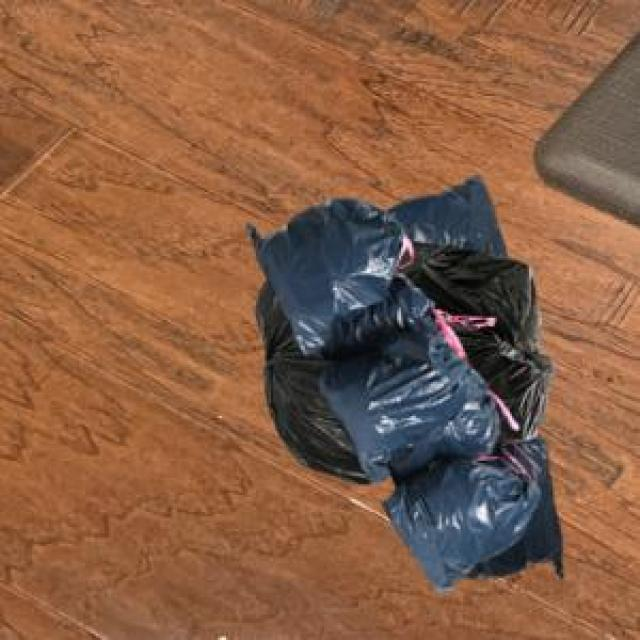Vinyl: (249, 178, 561, 589)
